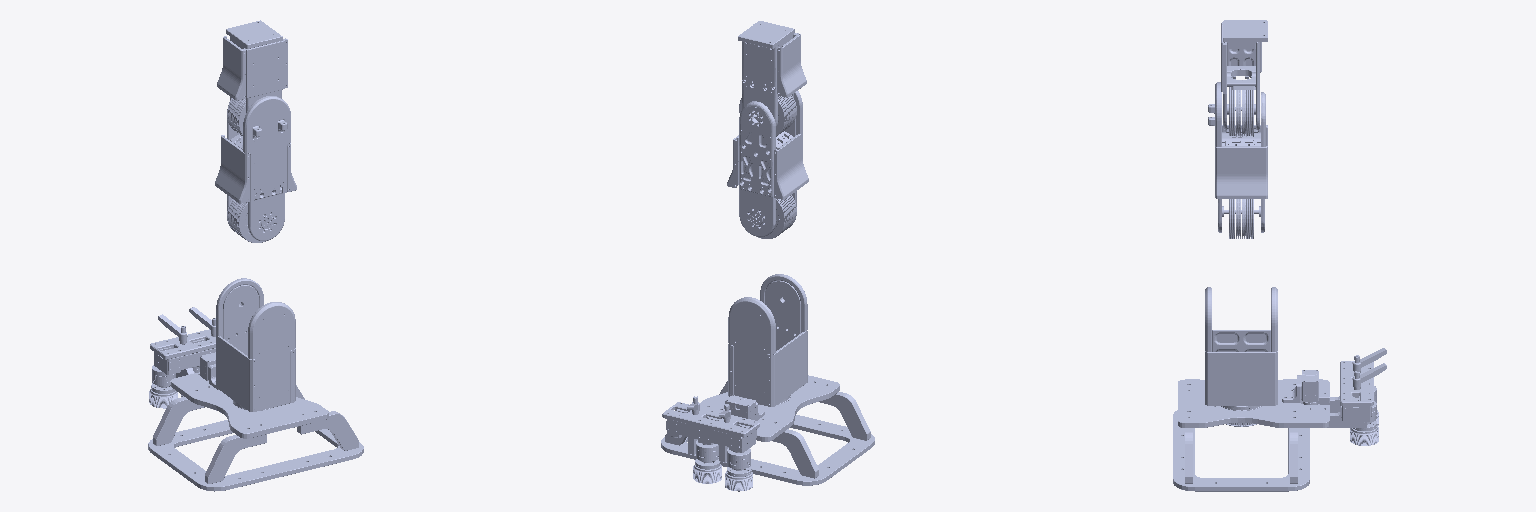
URDF robot description (pmi_description3):
<?xml version="1.0" encoding="utf-8"?>
<!-- This URDF was automatically created by SolidWorks to URDF Exporter! Originally created by Stephen Brawner (brawner@gmail.com) 
     Commit Version: 1.6.0-4-g7f85cfe  Build Version: 1.6.7995.38578
     For more information, please see http://wiki.ros.org/sw_urdf_exporter -->
<robot
  name="pmi_description3">
  <link
    name="base_link">
    <inertial>
      <origin
        xyz="-0.00094779525961415 0.0731824580632739 -0.00426459102280079"
        rpy="0 0 0" />
      <mass
        value="2.14742878514911" />
      <inertia
        ixx="0.0113367395890069"
        ixy="1.66394342827115E-06"
        ixz="1.37457815703454E-06"
        iyy="0.0123595741005711"
        iyz="-5.97549903543962E-05"
        izz="0.0229657250874318" />
    </inertial>
    <visual>
      <origin
        xyz="0 0 0"
        rpy="0 0 0" />
      <geometry>
        <mesh
          filename="package://pmi_description3/meshes/base_link.STL" />
      </geometry>
      <material
        name="">
        <color
          rgba="0.792156862745098 0.819607843137255 0.933333333333333 1" />
      </material>
    </visual>
    <collision>
      <origin
        xyz="0 0 0"
        rpy="0 0 0" />
      <geometry>
        <mesh
          filename="package://pmi_description3/meshes/base_link.STL" />
      </geometry>
    </collision>
  </link>
  <link
    name="link1">
    <inertial>
      <origin
        xyz="0.0029766 -1.9976E-09 -0.10913"
        rpy="0 0 0" />
      <mass
        value="1.1285" />
      <inertia
        ixx="0.0034546"
        ixy="-4.1833E-08"
        ixz="8.2656E-08"
        iyy="0.0034685"
        iyz="-2.2223E-12"
        izz="0.0014719" />
    </inertial>
    <visual>
      <origin
        xyz="0 0 0"
        rpy="0 0 0" />
      <geometry>
        <mesh
          filename="package://pmi_description3/meshes/link1.STL" />
      </geometry>
      <material
        name="">
        <color
          rgba="0.79216 0.81961 0.93333 1" />
      </material>
    </visual>
    <collision>
      <origin
        xyz="0 0 0"
        rpy="0 0 0" />
      <geometry>
        <mesh
          filename="package://pmi_description3/meshes/link1.STL" />
      </geometry>
    </collision>
  </link>
  <joint
    name="jnt1"
    type="revolute">
    <origin
      xyz="0 0 0"
      rpy="3.1416 0 0" />
    <parent
      link="base_link" />
    <child
      link="link1" />
    <axis
      xyz="0 0 1" />
    <limit
      lower="-3.1416"
      upper="3.1416"
      effort="10"
      velocity="100" />
    <mimic
      joint="q1_act"
      multiplier="0.5333"
      offset="0" />
  </joint>
  <link
    name="link2">
    <inertial>
      <origin
        xyz="5.8908E-05 -0.083968 -0.0062912"
        rpy="0 0 0" />
      <mass
        value="1.2748" />
      <inertia
        ixx="0.0027247"
        ixy="2.3397E-08"
        ixz="-1.513E-06"
        iyy="0.0013258"
        iyz="-2.3923E-06"
        izz="0.0029712" />
    </inertial>
    <visual>
      <origin
        xyz="0 0 0"
        rpy="0 0 0" />
      <geometry>
        <mesh
          filename="package://pmi_description3/meshes/link2.STL" />
      </geometry>
      <material
        name="">
        <color
          rgba="0.79216 0.81961 0.93333 1" />
      </material>
    </visual>
    <collision>
      <origin
        xyz="0 0 0"
        rpy="0 0 0" />
      <geometry>
        <mesh
          filename="package://pmi_description3/meshes/link2.STL" />
      </geometry>
    </collision>
  </link>
  <joint
    name="jnt2"
    type="revolute">
    <origin
      xyz="0 0 -0.22"
      rpy="1.5708 0 0" />
    <parent
      link="link1" />
    <child
      link="link2" />
    <axis
      xyz="0 0 -1" />
    <limit
      lower="-1.5709"
      upper="1.5709"
      effort="10"
      velocity="100" />
    <mimic
      joint="q2_act"
      multiplier="0.15"
      offset="0" />
  </joint>
  <link
    name="link3">
    <inertial>
      <origin
        xyz="0.095221 -3.7333E-05 -0.004723"
        rpy="0 0 0" />
      <mass
        value="1.2621" />
      <inertia
        ixx="0.0010938"
        ixy="2.3488E-08"
        ixz="5.6708E-06"
        iyy="0.0037848"
        iyz="-4.7642E-08"
        izz="0.0042272" />
    </inertial>
    <visual>
      <origin
        xyz="0 0 0"
        rpy="0 0 0" />
      <geometry>
        <mesh
          filename="package://pmi_description3/meshes/link3.STL" />
      </geometry>
      <material
        name="">
        <color
          rgba="0.79216 0.81961 0.93333 1" />
      </material>
    </visual>
    <collision>
      <origin
        xyz="0 0 0"
        rpy="0 0 0" />
      <geometry>
        <mesh
          filename="package://pmi_description3/meshes/link3.STL" />
      </geometry>
    </collision>
  </link>
  <joint
    name="jnt3"
    type="revolute">
    <origin
      xyz="0 -0.23 0"
      rpy="0 0 -1.5709" />
    <parent
      link="link2" />
    <child
      link="link3" />
    <axis
      xyz="0 0 1" />
    <limit
      lower="-1.5709"
      upper="1.5709"
      effort="10"
      velocity="100" />
    <mimic
      joint="q3_act"
      multiplier="0.3"
      offset="0" />
  </joint>
  <link
    name="link4">
    <inertial>
      <origin
        xyz="0.068913 0.0046115 0.0014599"
        rpy="0 0 0" />
      <mass
        value="0.85956" />
      <inertia
        ixx="0.0007259"
        ixy="6.1552E-06"
        ixz="3.5026E-06"
        iyy="0.0013575"
        iyz="3.0696E-08"
        izz="0.001809" />
    </inertial>
    <visual>
      <origin
        xyz="0 0 0"
        rpy="0 0 0" />
      <geometry>
        <mesh
          filename="package://pmi_description3/meshes/link4.STL" />
      </geometry>
      <material
        name="">
        <color
          rgba="0.79216 0.81961 0.93333 1" />
      </material>
    </visual>
    <collision>
      <origin
        xyz="0 0 0"
        rpy="0 0 0" />
      <geometry>
        <mesh
          filename="package://pmi_description3/meshes/link4.STL" />
      </geometry>
    </collision>
  </link>
  <joint
    name="jnt4"
    type="revolute">
    <origin
      xyz="0.23 0 0"
      rpy="-3.1416 0 0" />
    <parent
      link="link3" />
    <child
      link="link4" />
    <axis
      xyz="0 0 1" />
    <limit
      lower="-1.5709"
      upper="1.5709"
      effort="10"
      velocity="100" />
    <mimic
      joint="q4_act"
      multiplier="0.3"
      offset="0" />
  </joint>
  <link
    name="q1_motor">
    <inertial>
      <origin
        xyz="2.7756E-17 7.3141E-18 -0.0061604"
        rpy="0 0 0" />
      <mass
        value="0.031263" />
      <inertia
        ixx="5.9458E-06"
        ixy="-3.8921E-14"
        ixz="-3.0989E-22"
        iyy="5.9458E-06"
        iyz="3.8542E-22"
        izz="7.8696E-06" />
    </inertial>
    <visual>
      <origin
        xyz="0 0 0"
        rpy="0 0 0" />
      <geometry>
        <mesh
          filename="package://pmi_description3/meshes/q1_motor.STL" />
      </geometry>
      <material
        name="">
        <color
          rgba="0.79216 0.81961 0.93333 1" />
      </material>
    </visual>
    <collision>
      <origin
        xyz="0 0 0"
        rpy="0 0 0" />
      <geometry>
        <mesh
          filename="package://pmi_description3/meshes/q1_motor.STL" />
      </geometry>
    </collision>
  </link>
  <joint
    name="q1_act"
    type="revolute">
    <origin
      xyz="0 0.14 0"
      rpy="-3.1416 0 -1.5708" />
    <parent
      link="base_link" />
    <child
      link="q1_motor" />
    <axis
      xyz="0 0 1" />
    <limit
      lower="-5.8909"
      upper="5.8909"
      effort="10"
      velocity="100" />
  </joint>
  <link
    name="q2_motor">
    <inertial>
      <origin
        xyz="6.5945E-07 9.3491E-07 0.01996"
        rpy="0 0 0" />
      <mass
        value="0.10842" />
      <inertia
        ixx="2.8381E-05"
        ixy="1.7708E-08"
        ixz="3.5646E-09"
        iyy="2.8462E-05"
        iyz="8.7331E-10"
        izz="4.6591E-05" />
    </inertial>
    <visual>
      <origin
        xyz="0 0 0"
        rpy="0 0 0" />
      <geometry>
        <mesh
          filename="package://pmi_description3/meshes/q2_motor.STL" />
      </geometry>
      <material
        name="">
        <color
          rgba="0.79216 0.81961 0.93333 1" />
      </material>
    </visual>
    <collision>
      <origin
        xyz="0 0 0"
        rpy="0 0 0" />
      <geometry>
        <mesh
          filename="package://pmi_description3/meshes/q2_motor.STL" />
      </geometry>
    </collision>
  </link>
  <joint
    name="q2_act"
    type="revolute">
    <origin
      xyz="0 0.25 0"
      rpy="-3.1416 0 -1.5708" />
    <parent
      link="base_link" />
    <child
      link="q2_motor" />
    <axis
      xyz="0 0 1" />
    <limit
      lower="-10.472"
      upper="10.472"
      effort="10"
      velocity="100" />
  </joint>
  <link
    name="q3_motor">
    <inertial>
      <origin
        xyz="-9.2316E-07 7.2482E-07 0.01996"
        rpy="0 0 0" />
      <mass
        value="0.10842" />
      <inertia
        ixx="2.8411E-05"
        ixy="-1.3701E-08"
        ixz="4.0204E-09"
        iyy="2.8432E-05"
        iyz="8.2403E-09"
        izz="4.6591E-05" />
    </inertial>
    <visual>
      <origin
        xyz="0 0 0"
        rpy="0 0 0" />
      <geometry>
        <mesh
          filename="package://pmi_description3/meshes/q3_motor.STL" />
      </geometry>
      <material
        name="">
        <color
          rgba="0.79216 0.81961 0.93333 1" />
      </material>
    </visual>
    <collision>
      <origin
        xyz="0 0 0"
        rpy="0 0 0" />
      <geometry>
        <mesh
          filename="package://pmi_description3/meshes/q3_motor.STL" />
      </geometry>
    </collision>
  </link>
  <joint
    name="q3_act"
    type="revolute">
    <origin
      xyz="-0.075 0.25 0"
      rpy="-3.1416 0 -1.5708" />
    <parent
      link="base_link" />
    <child
      link="q3_motor" />
    <axis
      xyz="0 0 1" />
    <limit
      lower="-5.236"
      upper="5.236"
      effort="10"
      velocity="100" />
  </joint>
  <link
    name="q4_motor">
    <inertial>
      <origin
        xyz="0 0 0"
        rpy="0 0 0" />
      <mass
        value="0" />
      <inertia
        ixx="0"
        ixy="0"
        ixz="0"
        iyy="0"
        iyz="0"
        izz="0" />
    </inertial>
    <visual>
      <origin
        xyz="0 0 0"
        rpy="0 0 0" />
      <geometry>
        <mesh
          filename="package://pmi_description3/meshes/q4_motor.STL" />
      </geometry>
      <material
        name="">
        <color
          rgba="1 1 1 1" />
      </material>
    </visual>
    <collision>
      <origin
        xyz="0 0 0"
        rpy="0 0 0" />
      <geometry>
        <mesh
          filename="package://pmi_description3/meshes/q4_motor.STL" />
      </geometry>
    </collision>
  </link>
  <joint
    name="q4_act"
    type="revolute">
    <origin
      xyz="0.075 0.25 0"
      rpy="-3.1416 0 -1.5708" />
    <parent
      link="base_link" />
    <child
      link="q4_motor" />
    <axis
      xyz="0 0 1" />
    <limit
      lower="-5.236"
      upper="5.236"
      effort="10"
      velocity="100" />
  </joint>
  <link name="end_effector"/>
  <joint name="end_effector_joint" type="fixed">
    <origin
      xyz="0.18 0 0"
      rpy="0 0 -1.5709" />
    <parent
      link="link4" />
    <child
      link="end_effector" />
  </joint>
</robot>

--- Render facts (derived) ---
The picture shows the robot from 3 angles, left to right: view 1: azimuth 30°, elevation 25°; view 2: azimuth 150°, elevation 25°; view 3: azimuth 270°, elevation 25°; orthographic projection.
Robot: pmi_description3 — 10 links, 9 joints (8 revolute, 1 fixed); root link base_link; default pose: all joints at 0.
Visible links, largest first — view 1: base_link, link1, link3, link4, q3_motor; view 2: base_link, link1, link3, link4, q3_motor, q2_motor; view 3: base_link, link1, link3, link4, q2_motor.
Boxes of the visible links, bbox=[...] form: base_link: bbox=[148, 307, 363, 491]; link1: bbox=[216, 278, 295, 411]; link3: bbox=[215, 96, 296, 242]; link4: bbox=[217, 20, 287, 135]; q3_motor: bbox=[149, 365, 177, 408]; base_link: bbox=[661, 375, 874, 485]; link1: bbox=[728, 274, 807, 406]; link3: bbox=[727, 91, 808, 238]; link4: bbox=[738, 21, 806, 136]; q3_motor: bbox=[725, 448, 752, 491]; q2_motor: bbox=[693, 440, 721, 483]; base_link: bbox=[1173, 348, 1386, 491]; link1: bbox=[1205, 287, 1277, 426]; link3: bbox=[1208, 82, 1267, 238]; link4: bbox=[1221, 20, 1267, 136]; q2_motor: bbox=[1350, 401, 1378, 445].
Bounding box of the posed robot: 0.39 × 0.4364 × 0.947 m (x, y, z).
Meshes: 9 distinct files referenced, 7 mesh visuals loaded (7 binary STL); not drawn: 2 (reference not matched to a file when rendering).
